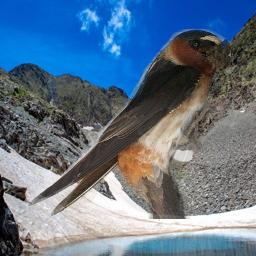Swallow: (26, 29, 231, 219)
